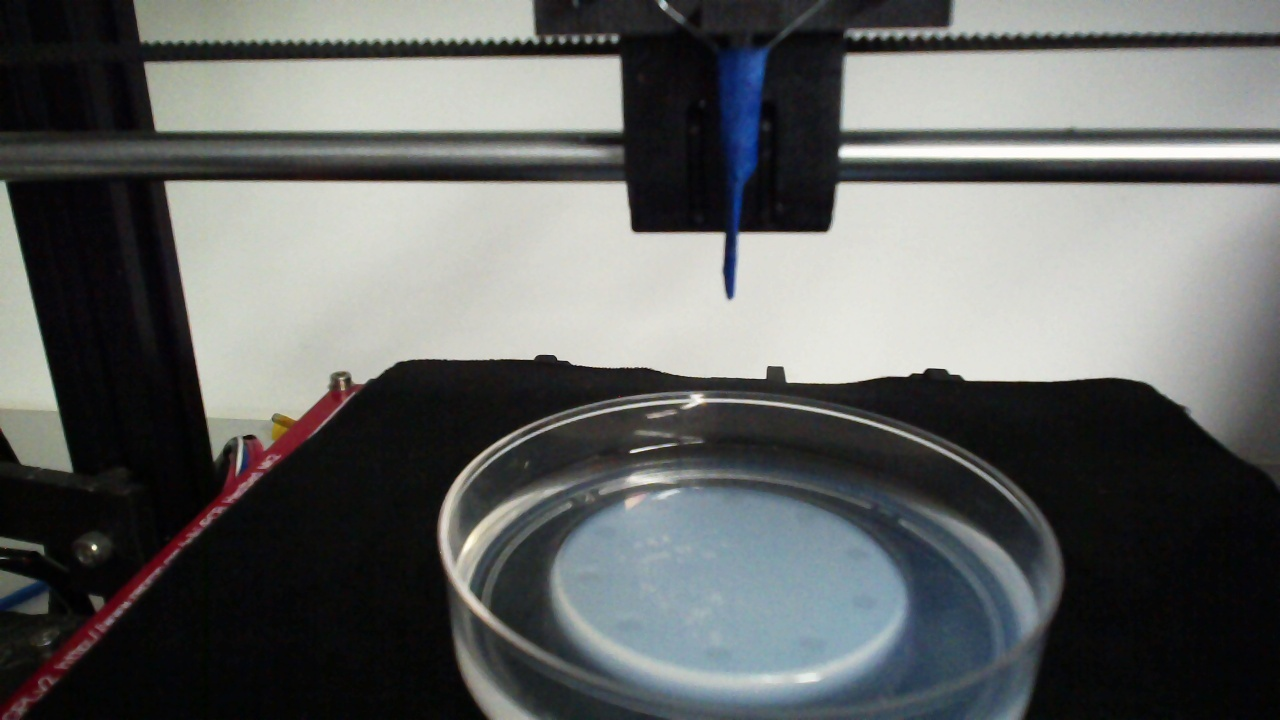groove: (843, 544, 875, 566), (850, 591, 880, 614), (702, 645, 733, 667), (573, 569, 604, 591), (796, 634, 830, 654), (792, 506, 822, 528), (614, 616, 643, 638), (716, 489, 744, 511), (592, 524, 620, 542)
needle: (725, 53, 765, 298)
